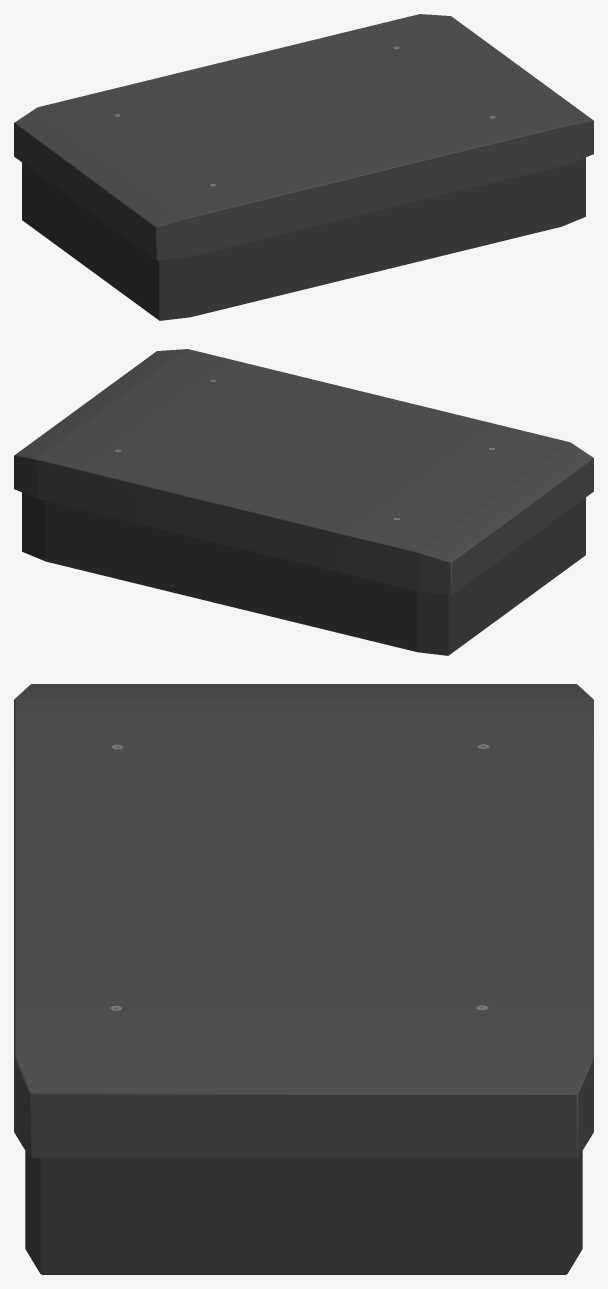
The model's file is Otto600Platform.fbx.
3 renders of one model, top to bottom at view 1: azimuth 30°, elevation 25°; view 2: azimuth 150°, elevation 25°; view 3: azimuth 270°, elevation 25°, orthographic. The views are drawn at different scales.
Visible parts, largest first — view 1: Otto600Platform_Upper, Otto600Platform_Base; view 2: Otto600Platform_Upper, Otto600Platform_Base; view 3: Otto600Platform_Upper, Otto600Platform_Base.
Part boxes in pixels (bbox=[...]): Otto600Platform_Upper: bbox=[14, 14, 593, 260]; Otto600Platform_Base: bbox=[22, 157, 585, 320]; Otto600Platform_Upper: bbox=[14, 349, 593, 595]; Otto600Platform_Base: bbox=[22, 492, 585, 655]; Otto600Platform_Upper: bbox=[14, 684, 593, 1157]; Otto600Platform_Base: bbox=[25, 1151, 582, 1274].
Bounding box in the file's own units: 94.3 × 21.29 × 56.38.
Materials: 1 (1 with a texture image).
